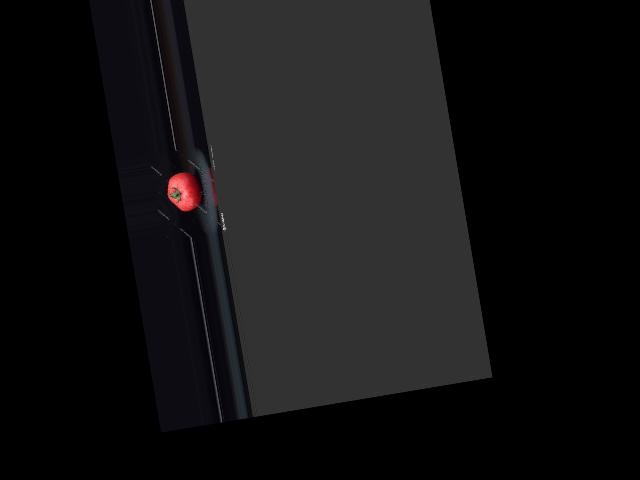tomato: (164, 169, 204, 214)
